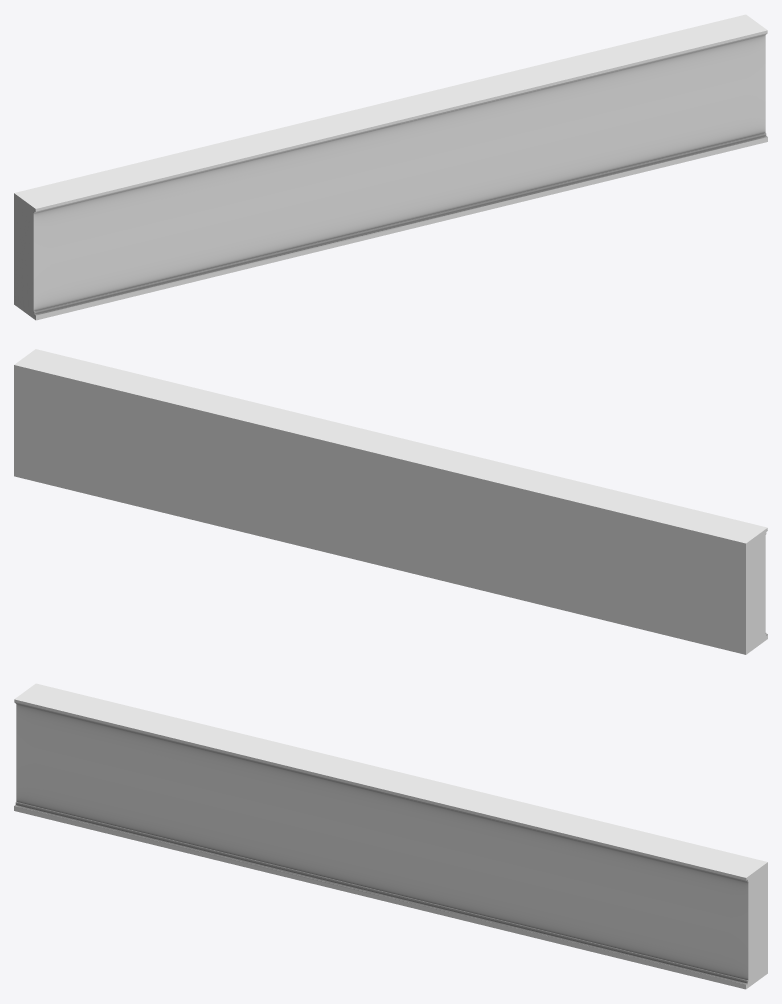
File: roof_5.glb
3 renders of one model, top to bottom at view 1: azimuth 30°, elevation 25°; view 2: azimuth 150°, elevation 25°; view 3: azimuth 330°, elevation 25°, orthographic.
Visible parts, largest first — view 1: roof_5; view 2: roof_5; view 3: roof_5.
Boxes of the visible parts, x1,y1,x2,y2 form: roof_5: [14, 14, 767, 320]; roof_5: [14, 349, 767, 654]; roof_5: [14, 683, 767, 989].
Size of the model in its own units: 6.5 by 0.9453 by 0.3374.
Materials: 1 (1 with a texture image).
